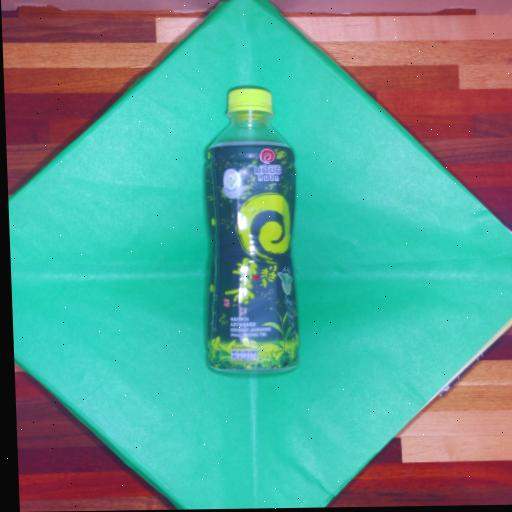bottle: (187, 76, 325, 395)
